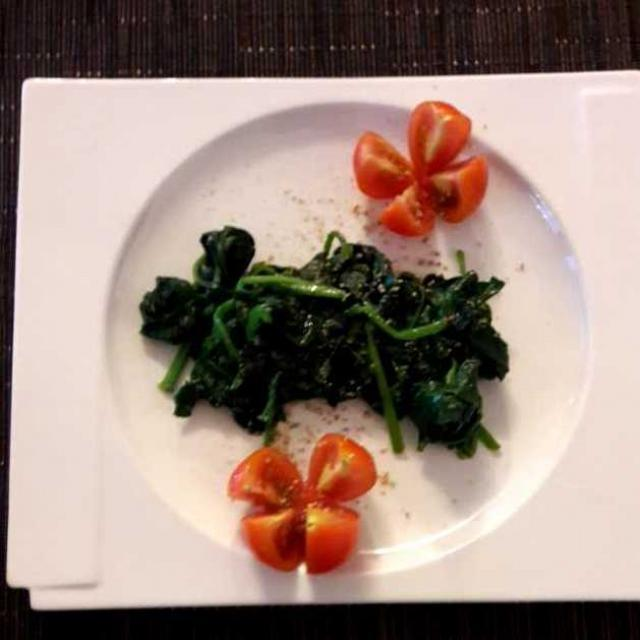spinach: (140, 237, 501, 439)
tomato: (203, 98, 509, 576)
